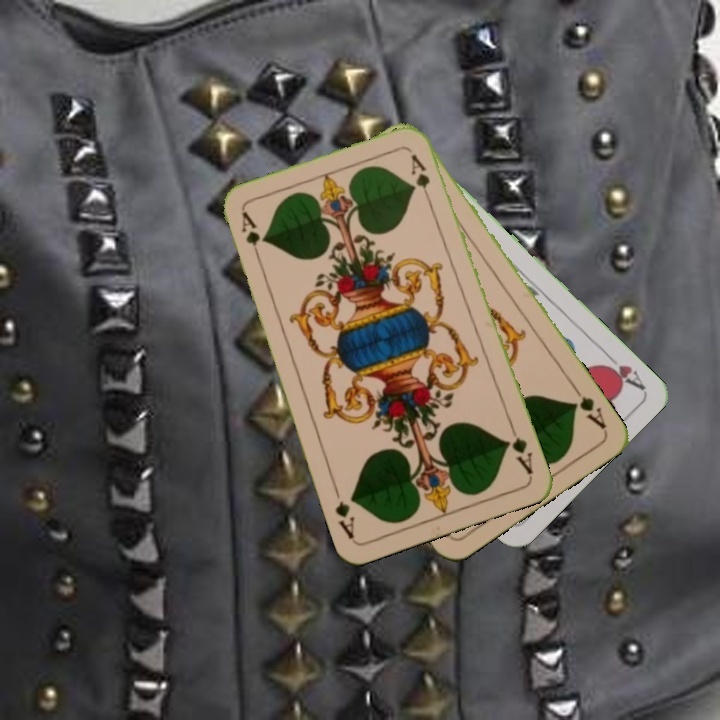GA: (567, 381, 609, 432), (502, 421, 536, 477), (237, 208, 264, 266)
HA: (597, 346, 647, 392)
